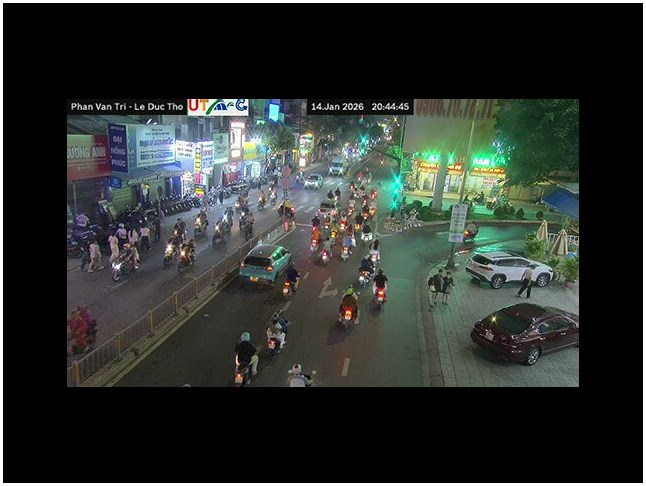car: (470, 301, 578, 365), (466, 251, 556, 290), (239, 242, 300, 290), (304, 174, 324, 190)
